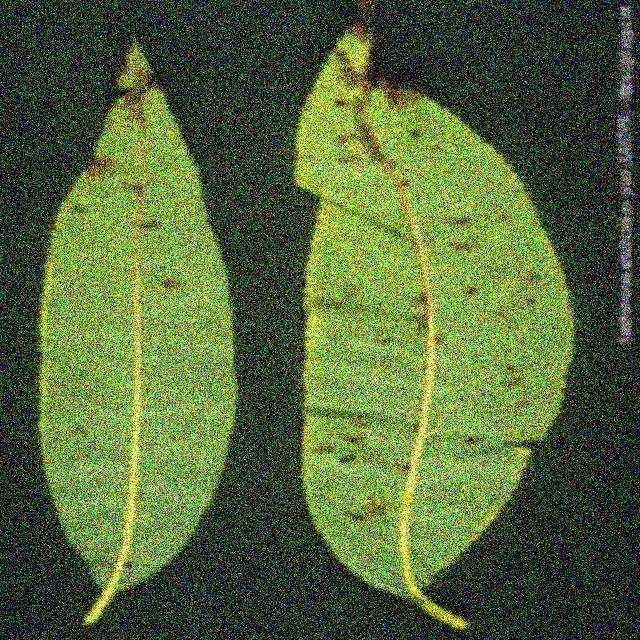shot_hole: (292, 69, 551, 596), (15, 59, 274, 586)
